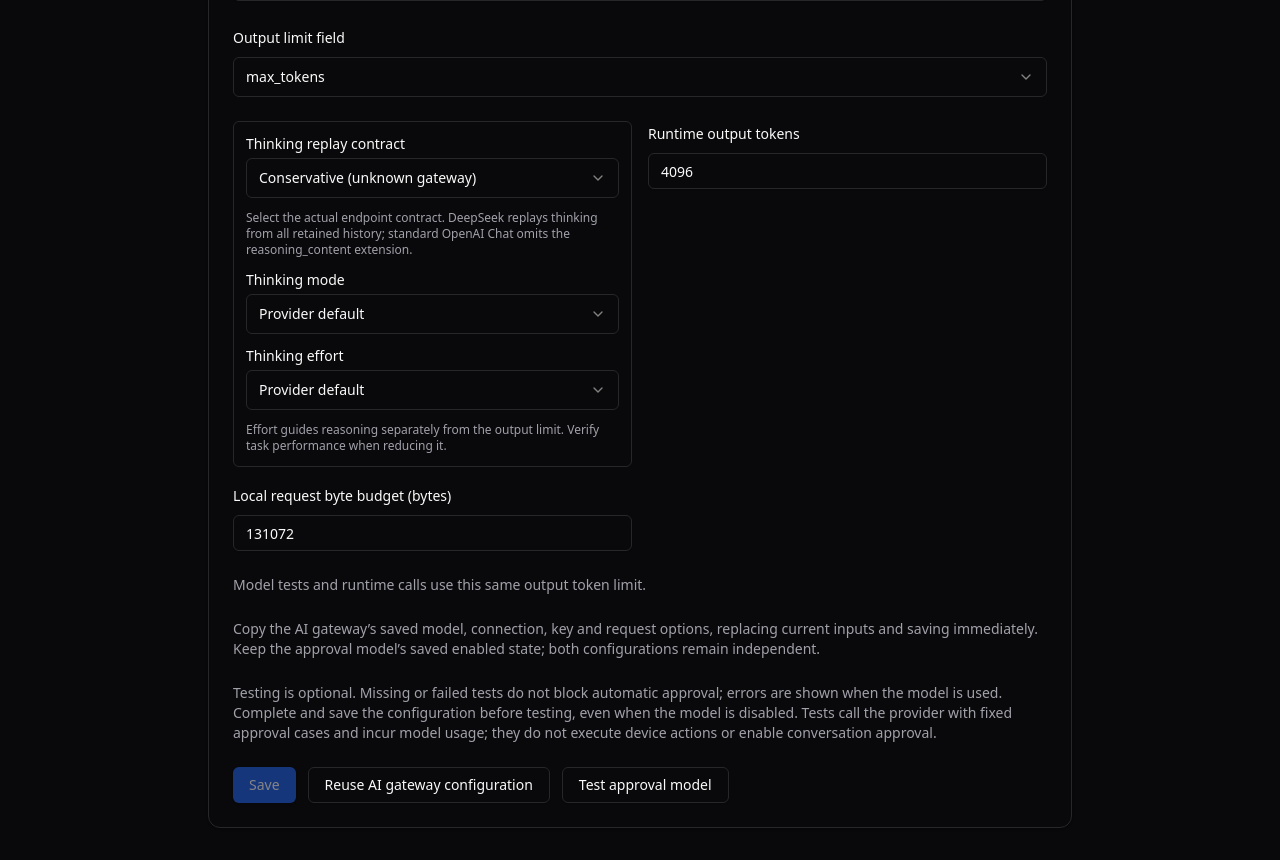
explicitly reusing the saved AI gateway › disables duplicate actions throughout a pending copy
This screenshot has width=1280, height=860.
(page scrolled)
Click the button "Reuse AI gateway configuration" at (429, 785), box [308,767,550,803]
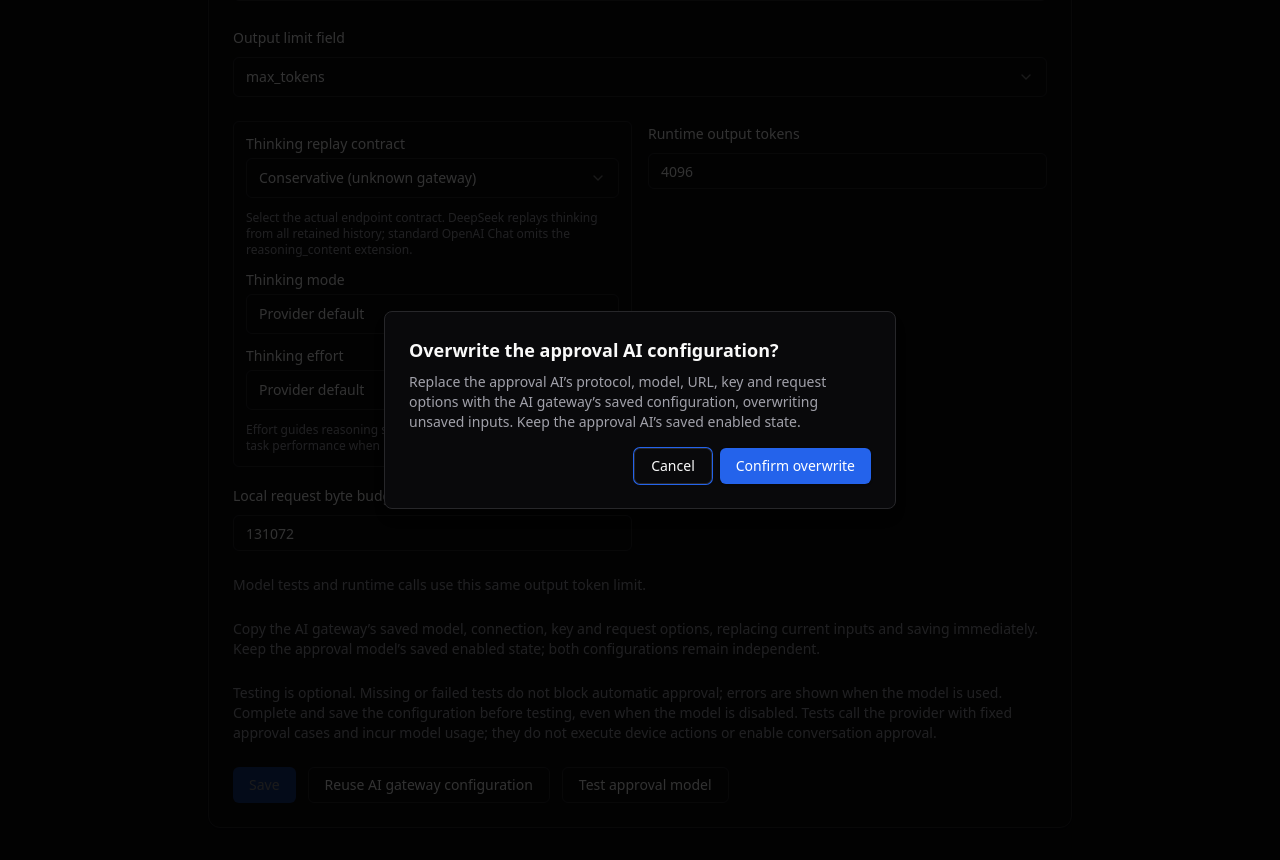
Click the button "Confirm overwrite" at (795, 466), box [720,448,871,484]
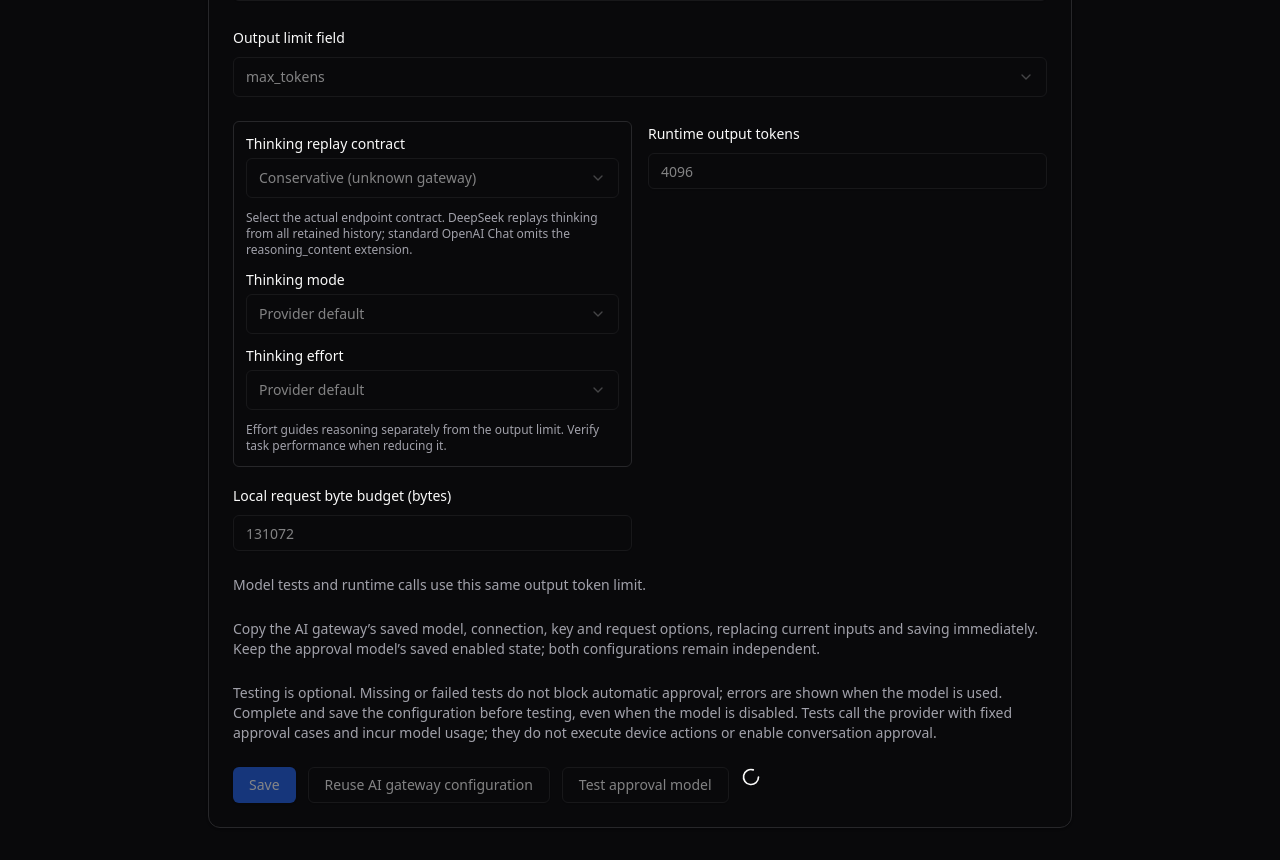
Check: the button "Save" is disabled, box [233,767,296,803]
Check: the button "Reuse AI gateway configuration" is disabled
Check: the button "Test approval model" is disabled, box [562,767,729,803]
Click the button "Reuse AI gateway configuration" at (429, 785), box [308,767,550,803]
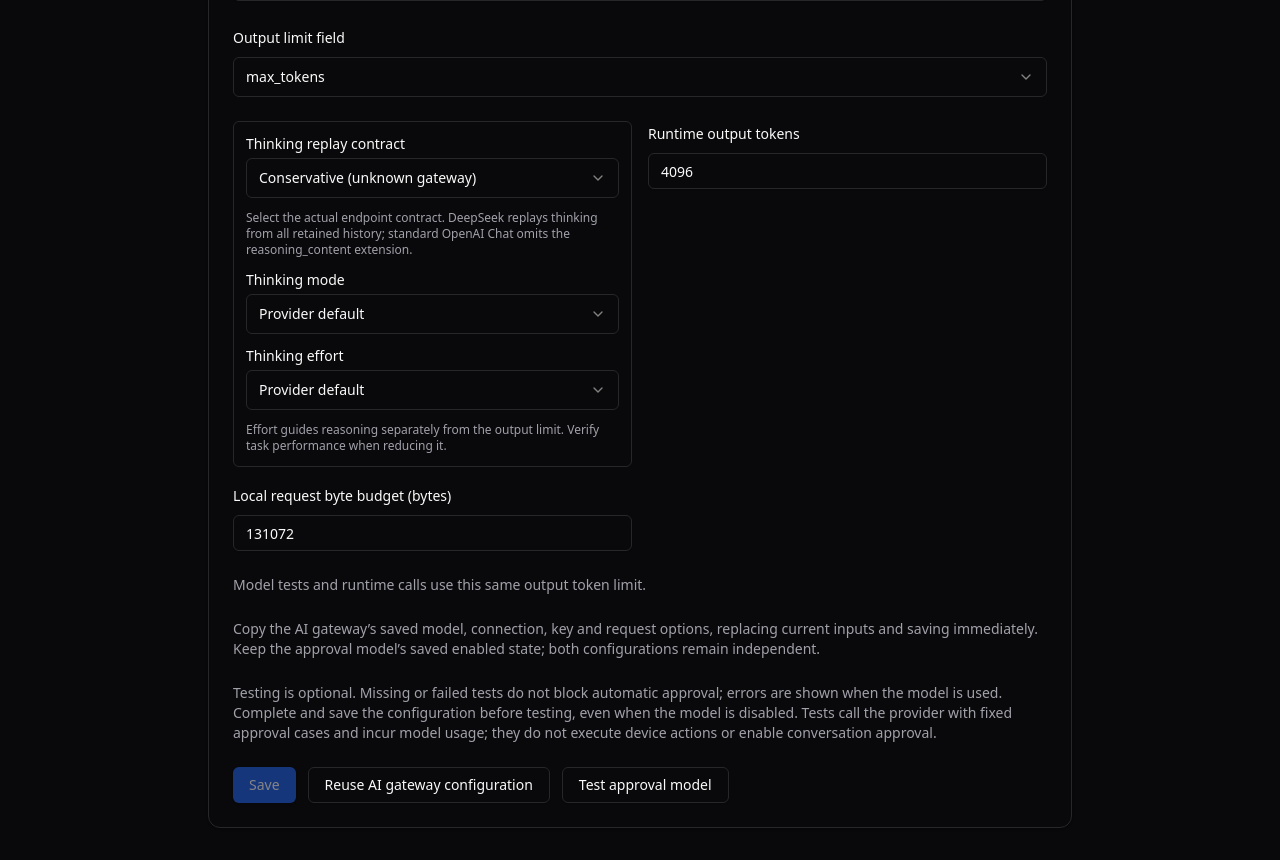
Check: the button "Reuse AI gateway configuration" is enabled, box [308,767,550,803]
